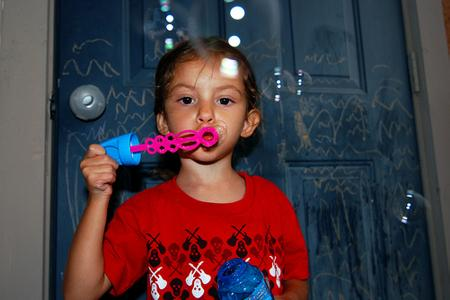person: (48, 42, 316, 298)
